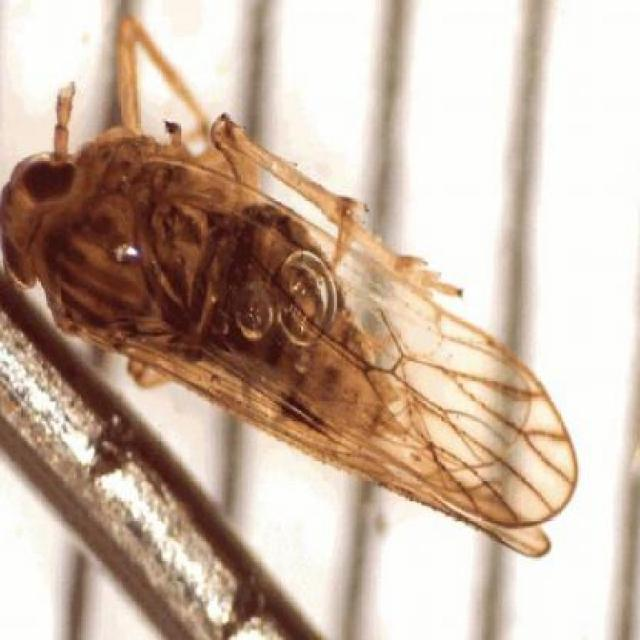brown-planthopper: (0, 115, 579, 559)
